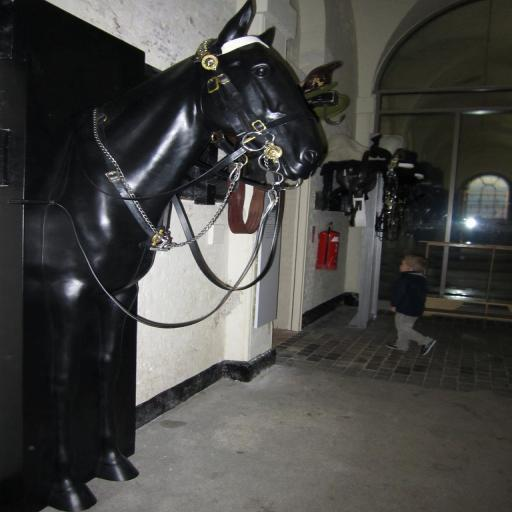horse: (24, 0, 332, 512)
